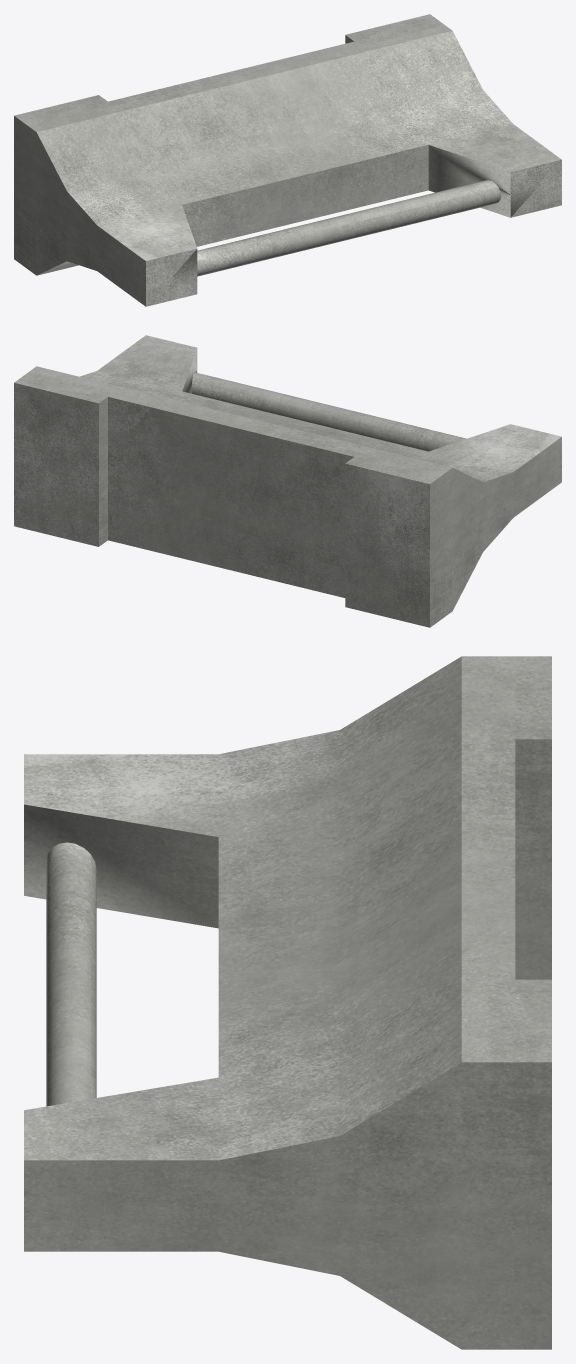
The model's file is barrier_low.obj.
3 renders of one model, top to bottom at view 1: azimuth 30°, elevation 25°; view 2: azimuth 150°, elevation 25°; view 3: azimuth 270°, elevation 25°, orthographic. The views are drawn at different scales.
Parts seen in each view (by area): view 1: Box001; view 2: Box001; view 3: Box001.
Boxes of the visible parts, box(x1,y1,x2,y2) form: Box001: box(14, 14, 561, 306); Box001: box(14, 335, 561, 627); Box001: box(24, 656, 551, 1349).
Bounding box in the file's own units: 39.54 × 13.04 × 21.71.
